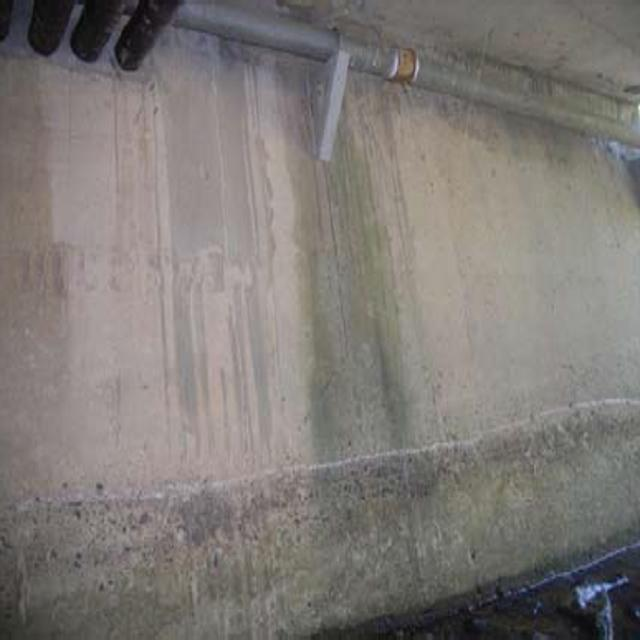leakage: (273, 47, 451, 550)
